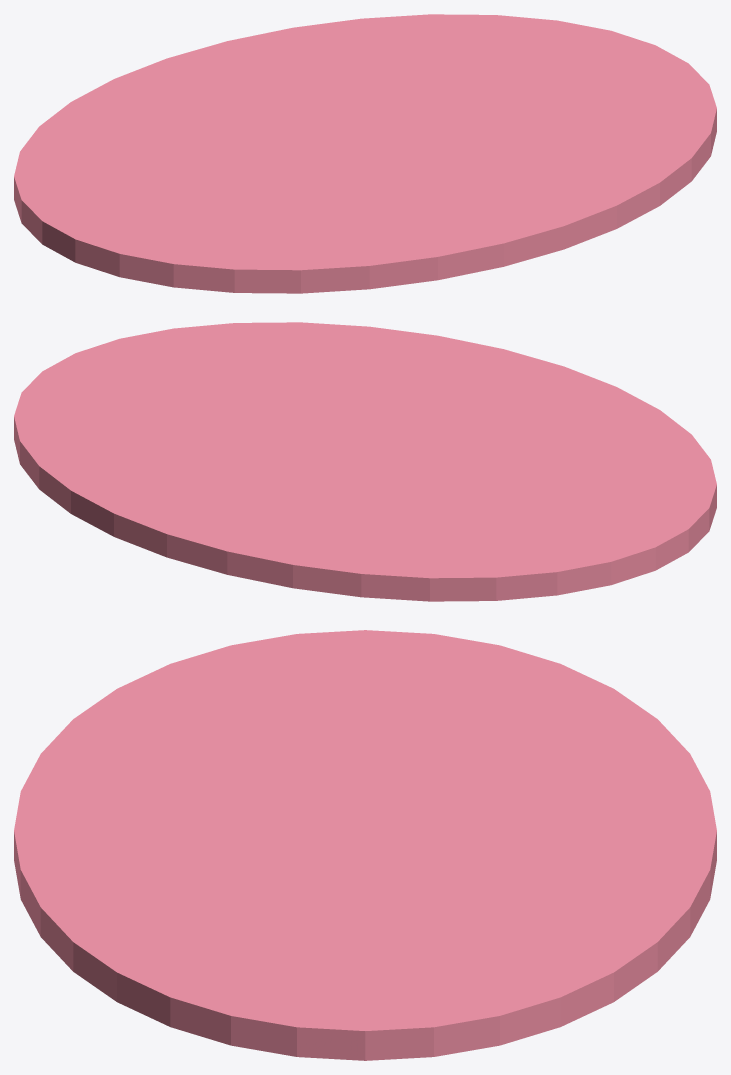
The model's file is Ham.fbx.
3 renders of one model, top to bottom at view 1: azimuth 30°, elevation 25°; view 2: azimuth 150°, elevation 25°; view 3: azimuth 270°, elevation 25°, orthographic. The views are drawn at different scales.
Parts seen in each view (by area): view 1: Ham; view 2: Ham; view 3: Ham.
Boxes of the visible parts, bbox=[...] form: Ham: bbox=[14, 14, 716, 293]; Ham: bbox=[14, 322, 716, 601]; Ham: bbox=[14, 630, 716, 1060].
Bounding box in the file's own units: 270 × 9.33 × 200.
